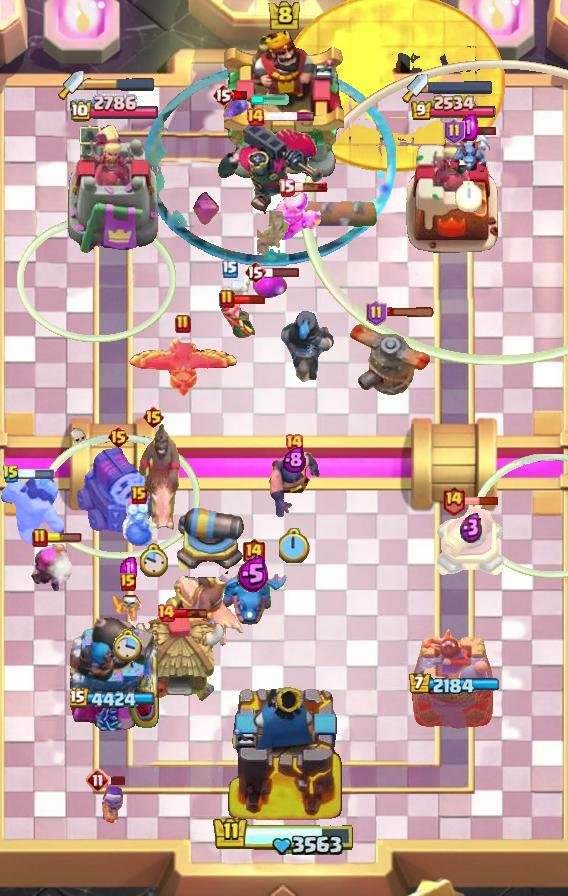arrows: (269, 189, 323, 243)
bar: (403, 124, 503, 256), (67, 122, 161, 256)
barbarian: (221, 94, 251, 122)
cannon: (220, 298, 260, 350)
clock: (212, 816, 356, 858)
dark-prince: (347, 310, 437, 400)
electro-spirit: (237, 555, 269, 593), (461, 513, 484, 544), (283, 447, 306, 474), (459, 114, 478, 141), (119, 557, 137, 581)
elixir: (138, 543, 168, 579), (279, 529, 310, 563), (113, 627, 143, 661), (455, 181, 482, 211)
emote: (263, 110, 316, 121), (384, 306, 436, 317), (462, 123, 497, 136), (292, 181, 328, 193), (264, 266, 300, 278), (173, 607, 209, 619), (17, 469, 55, 479), (232, 294, 266, 305), (46, 533, 82, 543), (465, 496, 500, 506), (107, 775, 127, 786), (231, 91, 248, 102)
fisherman: (257, 212, 299, 257)
freeze: (124, 423, 182, 535), (164, 573, 248, 649)
goblin: (95, 785, 127, 827)
golden-knight: (128, 333, 238, 399)
golem: (75, 446, 161, 534)
graveyard: (217, 565, 289, 627)
heal-spirit: (225, 270, 255, 306), (113, 590, 143, 622)
ice-golem: (121, 496, 157, 548)
ice-spirit: (250, 94, 290, 106)
inferno-dragon: (280, 306, 336, 382)
inferno-tower: (215, 118, 325, 214)
king-tower: (224, 29, 344, 181), (223, 680, 345, 826)
king-tower-bar: (84, 77, 156, 91), (428, 81, 492, 94)
miner: (252, 270, 288, 300)
minion: (274, 196, 378, 230)
monk: (268, 450, 320, 522)
pad_0: (144, 63, 396, 267)
phoenix-egg: (283, 0, 507, 172)
prince: (131, 614, 225, 704)
queen-tower: (411, 627, 495, 731)
rage: (0, 474, 64, 544)
royal-delivery: (446, 128, 490, 174)
royal-recruit: (435, 506, 507, 580), (174, 504, 248, 574)
selected: (68, 94, 159, 124), (411, 95, 498, 122), (408, 673, 501, 697), (69, 688, 158, 712)
skeleton-king-skill: (192, 191, 220, 227)
text: (442, 485, 467, 516), (241, 536, 266, 567), (86, 768, 110, 792), (143, 405, 166, 429), (106, 425, 129, 449), (444, 118, 465, 144), (366, 300, 387, 326), (212, 83, 234, 107), (244, 260, 266, 284), (245, 107, 265, 127), (284, 433, 304, 453), (156, 603, 176, 623), (2, 464, 20, 484), (277, 178, 295, 197), (219, 289, 235, 309), (175, 314, 191, 334), (32, 528, 48, 548), (222, 260, 238, 278), (131, 486, 147, 504), (120, 573, 136, 591)
tombstone: (31, 541, 72, 595)
tower-bar: (68, 611, 160, 731)
